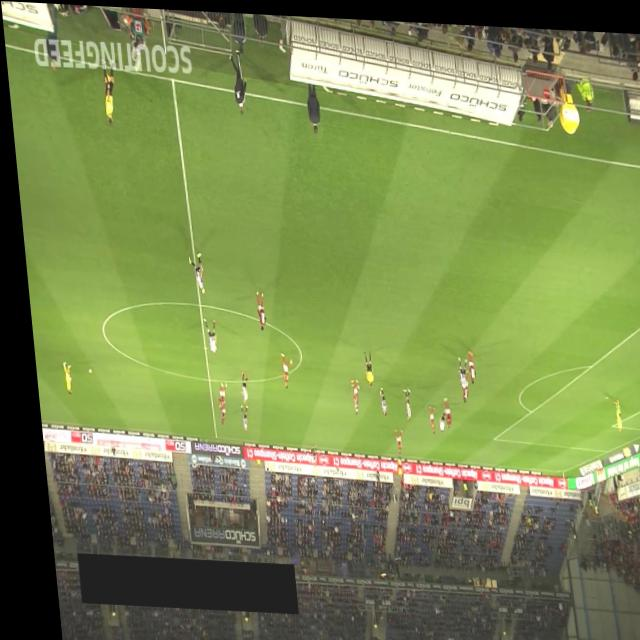player: (182, 249, 200, 292), (196, 316, 211, 353), (272, 350, 286, 387), (248, 287, 260, 328), (449, 351, 462, 386), (231, 367, 242, 402), (452, 364, 463, 399), (54, 360, 65, 394), (604, 392, 614, 427), (384, 422, 396, 451), (343, 380, 354, 411), (394, 383, 404, 417), (208, 379, 220, 405), (434, 392, 443, 424), (460, 345, 468, 379), (428, 402, 438, 428), (342, 375, 352, 399), (371, 382, 379, 412), (419, 400, 427, 429), (231, 402, 239, 430), (210, 406, 217, 422)
referee: (99, 58, 117, 124), (355, 346, 366, 383), (386, 450, 394, 476)
